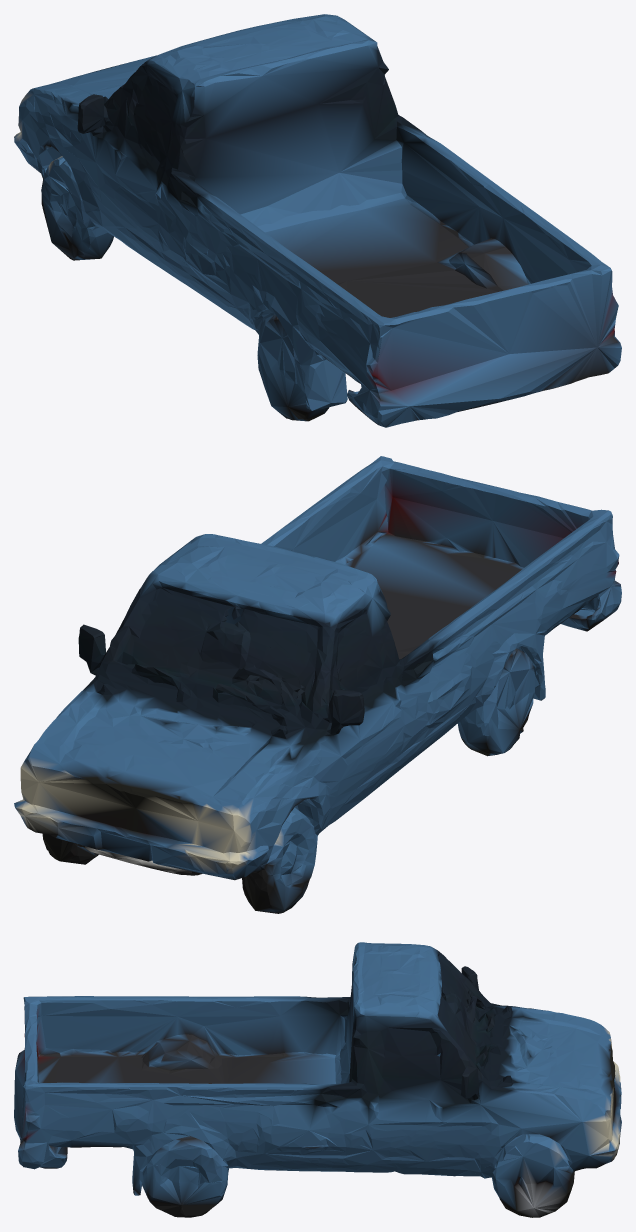
Rendered from nissan_lod1.glb.
3 views of the same model, one above another, from view 1: azimuth 30°, elevation 25°; view 2: azimuth 150°, elevation 25°; view 3: azimuth 270°, elevation 25° (orthographic). The views are drawn at different scales.
Visible parts, largest first — view 1: world; view 2: world; view 3: world.
Part boxes in pixels (x1,y1,x2,y2): world: [14, 14, 621, 427]; world: [14, 456, 621, 913]; world: [14, 942, 621, 1217].
Bounding box in the file's own units: 88.11 × 75.73 × 204.
